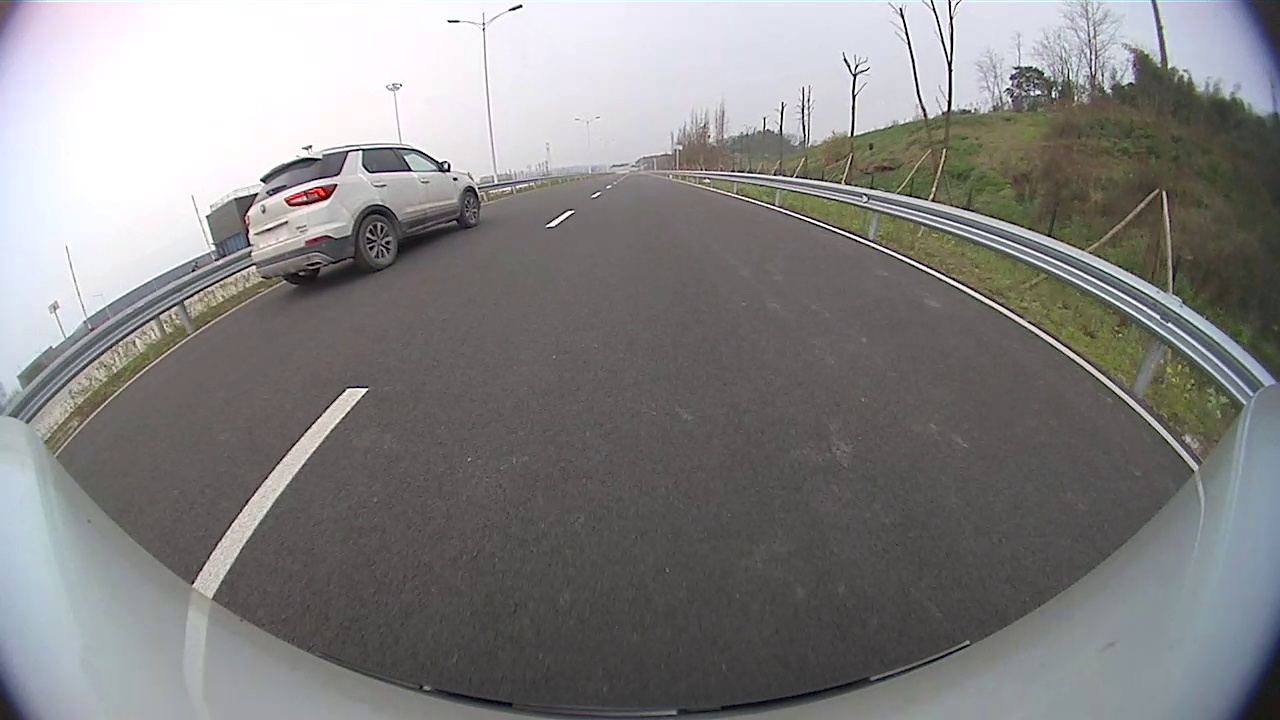car: (244, 144, 481, 285)
front: (457, 189, 482, 230)
rear: (354, 212, 401, 273)
